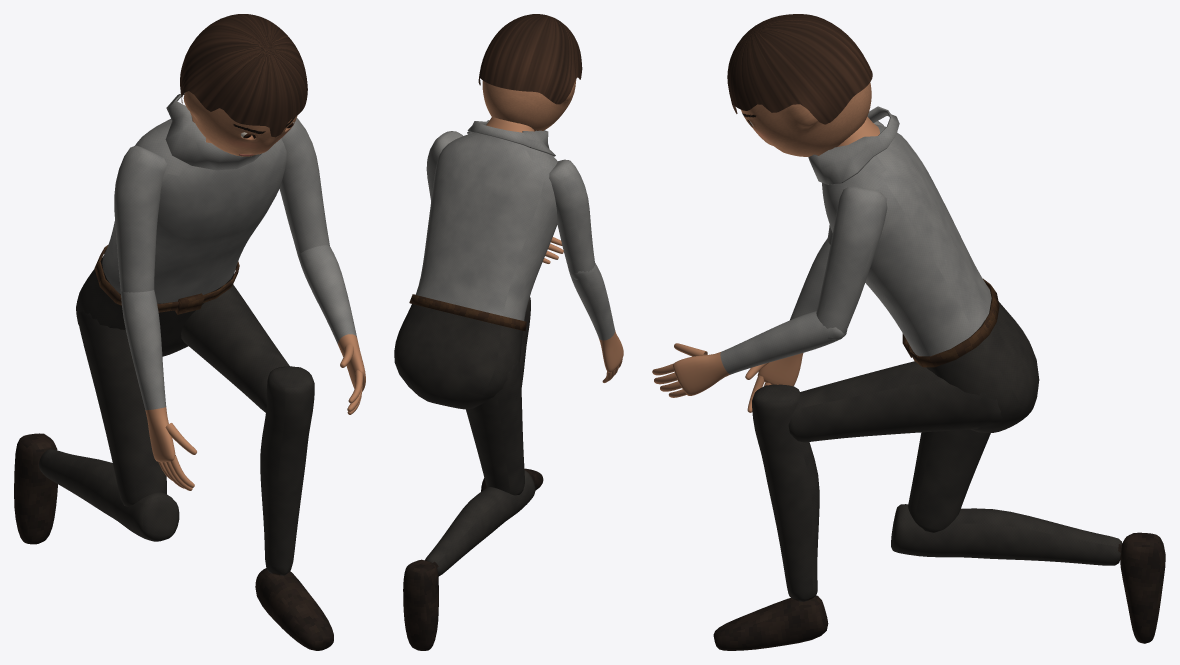
Rendered from persona_nino_agachado.obj.
The picture shows the model from 3 angles, left to right: view 1: azimuth 30°, elevation 25°; view 2: azimuth 150°, elevation 25°; view 3: azimuth 270°, elevation 25°; orthographic projection. The views are drawn at different scales.
Visible parts, largest first — view 1: persona_nino_agachado; view 2: persona_nino_agachado; view 3: persona_nino_agachado.
Boxes of the visible parts, x1,y1,x2,y2 form: persona_nino_agachado: [14, 14, 365, 650]; persona_nino_agachado: [394, 14, 623, 650]; persona_nino_agachado: [652, 14, 1165, 650].
Size of the model in its own units: 0.3159 by 0.9547 by 0.6944.
12 materials, 12 textured.
